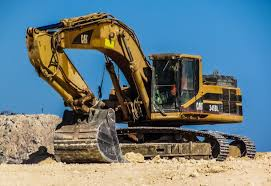excavator: (25, 12, 255, 165)
